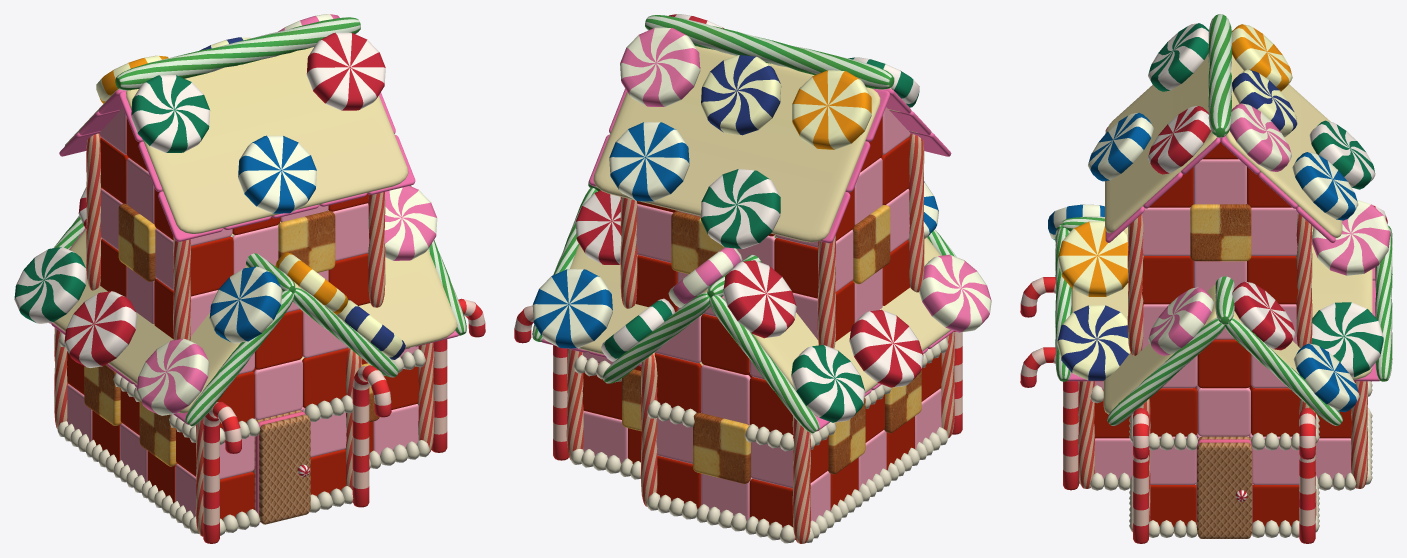
Rendered from cw_house_22.fbx.
3 views of the same model, side by side, from view 1: azimuth 30°, elevation 25°; view 2: azimuth 150°, elevation 25°; view 3: azimuth 270°, elevation 25° (orthographic). The views are drawn at different scales.
Parts seen in each view (by area): view 1: cw_house_22; view 2: cw_house_22; view 3: cw_house_22.
Boxes of the visible parts, box(x1,y1,x2,y2) form: cw_house_22: box(14, 14, 485, 543); cw_house_22: box(514, 14, 991, 543); cw_house_22: box(1020, 14, 1392, 543).
Bounding box in the file's own units: 813 × 899 × 753.
